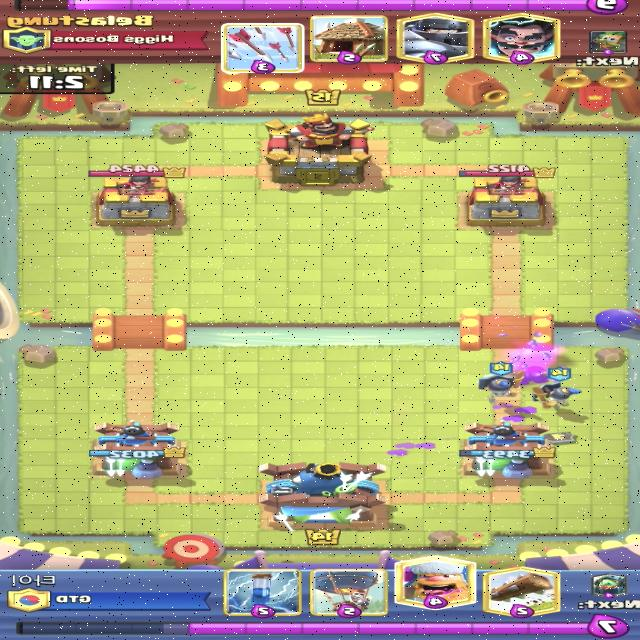Player-Guard: (530, 366, 584, 411), (477, 360, 526, 403)
